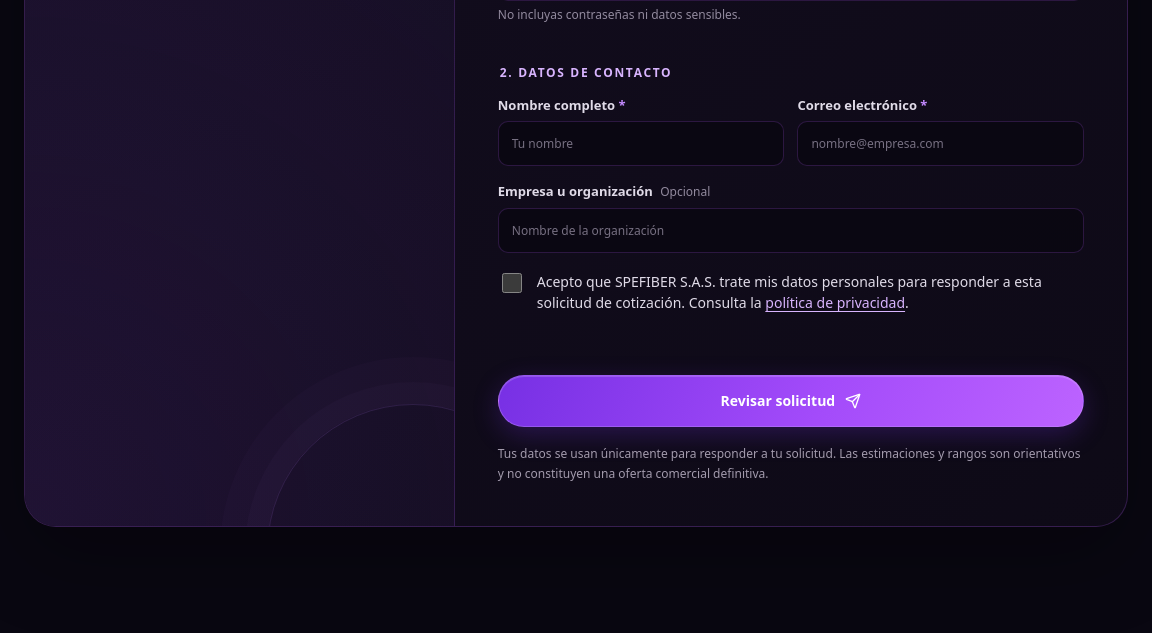
formulario de cotización › no envía nada si faltan campos obligatorios y señala cada campo
This screenshot has width=1152, height=633.
(page scrolled)
Click the button "Revisar solicitud". click: (791,401)
box: [498,375,1084,427]
(page scrolled)
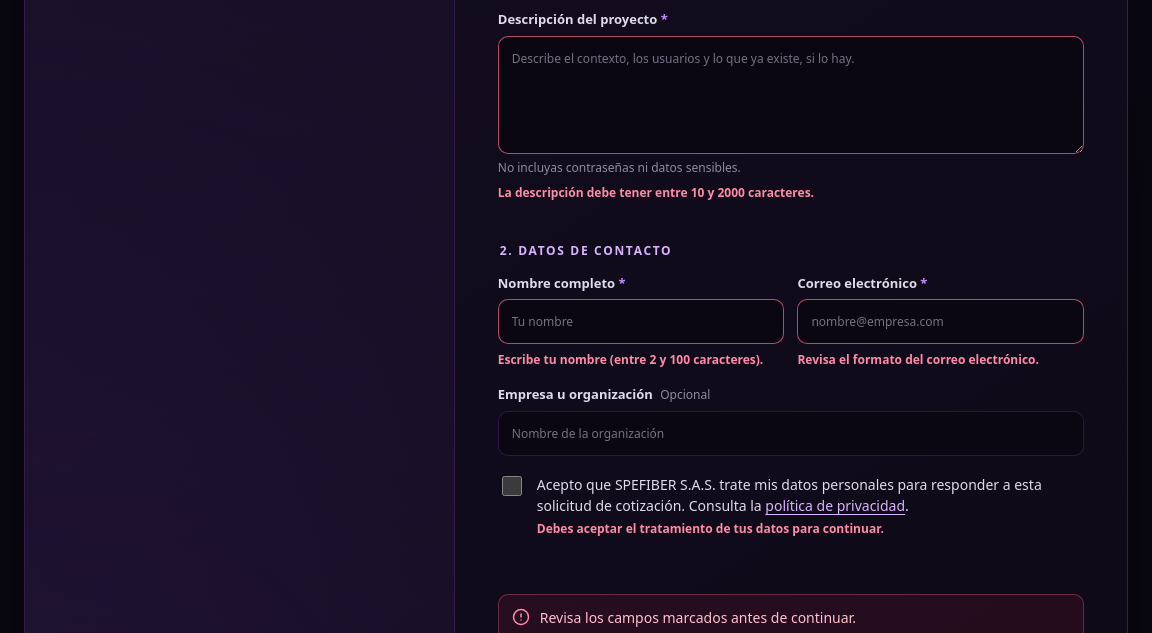
Result: the message shows "Revisa los campos marcados" at [540,608,856,627]
